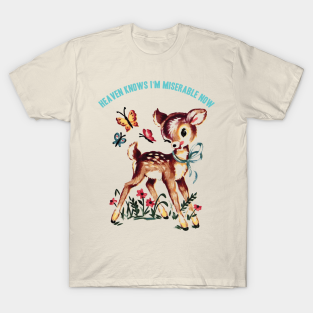design: (96, 78, 217, 232)
